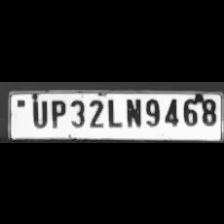2: (86, 96, 104, 128)
3: (66, 96, 86, 128)
4: (162, 95, 180, 127)
6: (180, 95, 198, 127)
8: (198, 95, 218, 127)
9: (142, 95, 160, 127)
L: (104, 94, 122, 128)
N: (122, 94, 142, 128)
P: (47, 96, 67, 128)
U: (27, 96, 47, 128)
